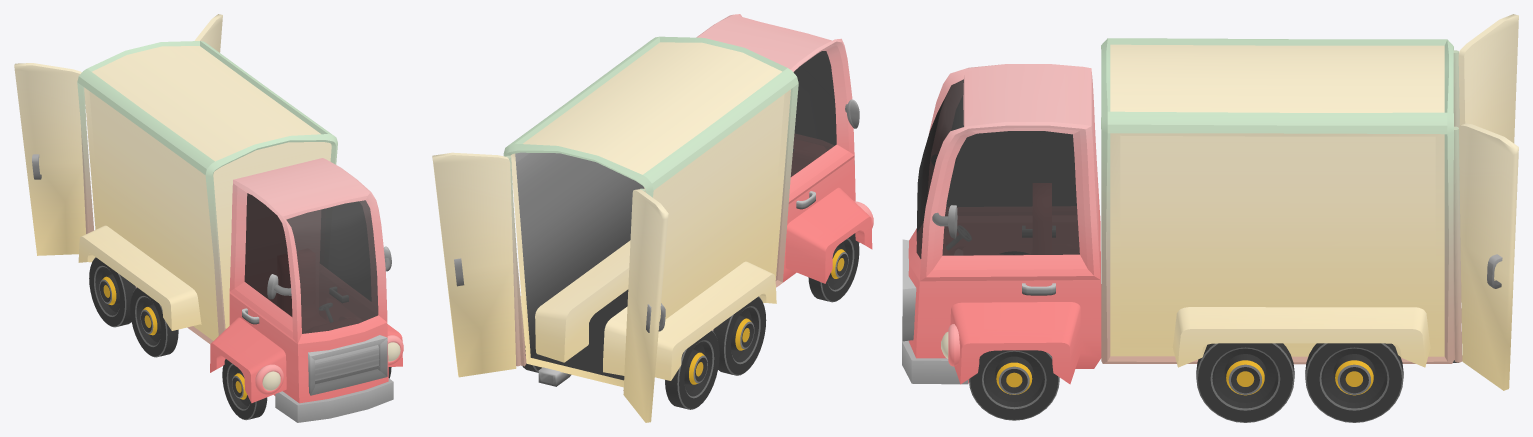
File: LKW2.glb
3 views of the same model, side by side, from view 1: azimuth 30°, elevation 25°; view 2: azimuth 150°, elevation 25°; view 3: azimuth 270°, elevation 25° (orthographic). The views are drawn at different scales.
Parts seen in each view (by area): view 1: Wagen, LKW-Kabine, wheels2, wheels; view 2: Wagen, LKW-Kabine, wheels2, wheels; view 3: Wagen, LKW-Kabine, wheels2, wheels.
Boxes of the visible parts, x1,y1,x2,y2 form: Wagen: (14,14,337,343); LKW-Kabine: (210,158,403,422); wheels2: (89,257,178,357); wheels: (222,359,391,420); Wagen: (432,36,798,422); LKW-Kabine: (696,14,873,286); wheels2: (522,296,766,409); wheels: (808,233,859,302); Wagen: (1101,14,1518,390); LKW-Kabine: (902,64,1101,384); wheels2: (1196,343,1403,422); wheels: (969,350,1059,420).
Size of the model in its own units: 4.28 by 4.62 by 8.27.
Materials: 4 (3 with a texture image).
